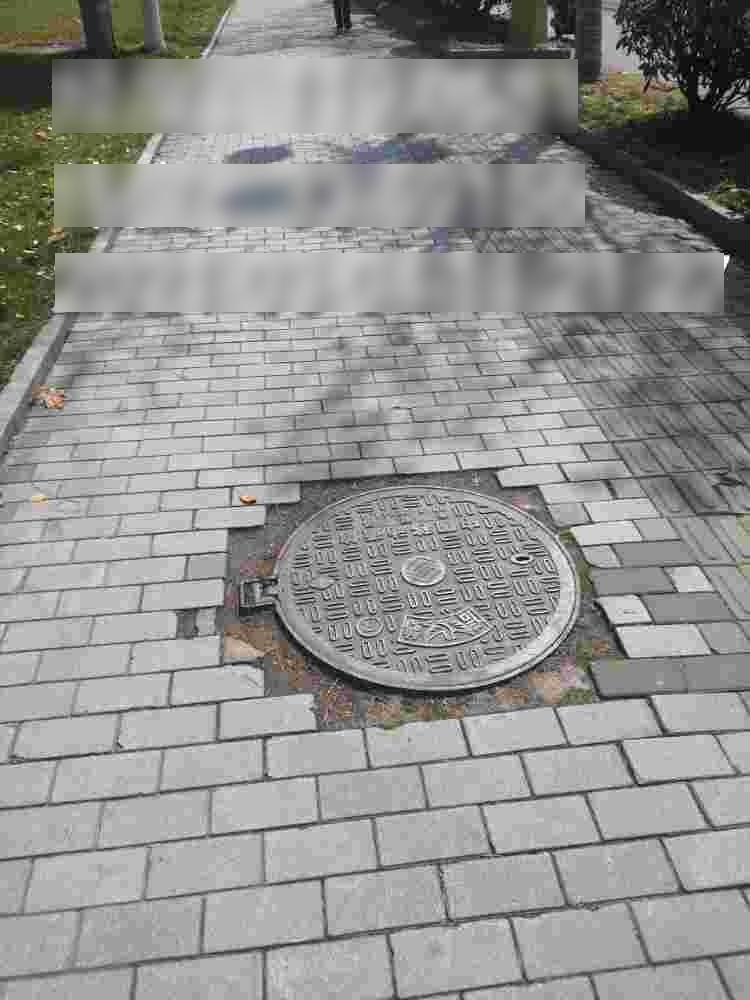good: (237, 483, 582, 694)
